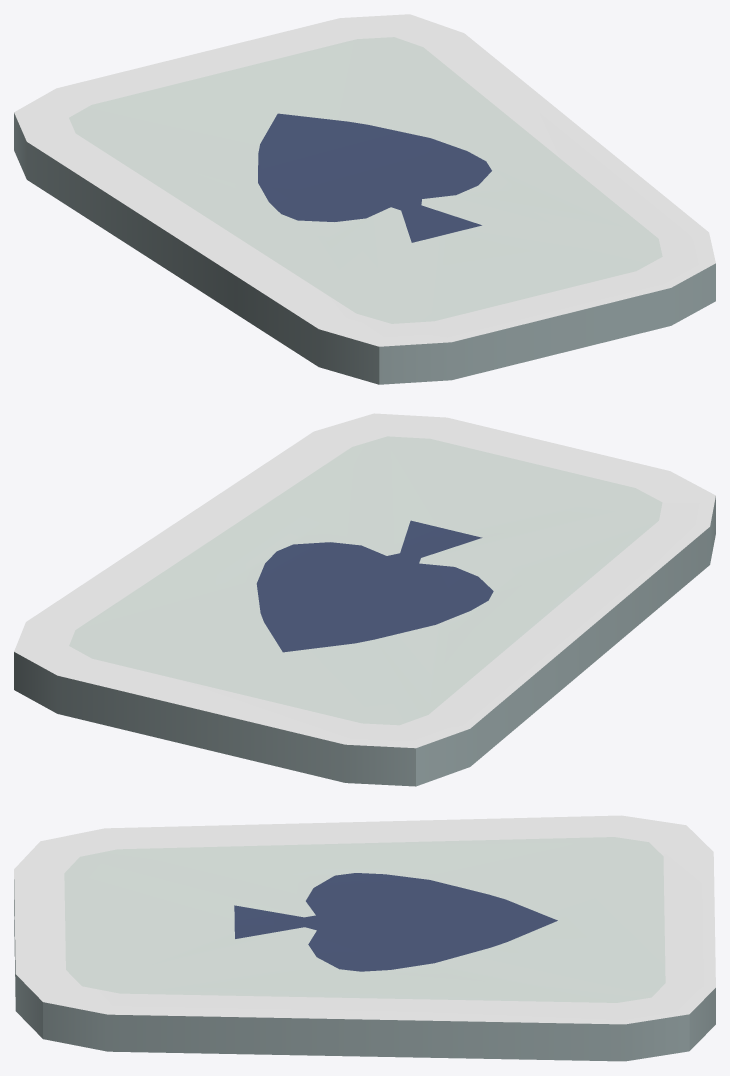
The model's file is Card_Spade.fbx.
3 renders of one model, top to bottom at view 1: azimuth 30°, elevation 25°; view 2: azimuth 150°, elevation 25°; view 3: azimuth 270°, elevation 25°, orthographic. The views are drawn at different scales.
Parts seen in each view (by area): view 1: Spade; view 2: Spade; view 3: Spade.
Boxes of the visible parts, x1,y1,x2,y2 form: Spade: (14,14,715,384); Spade: (14,413,715,786); Spade: (14,815,715,1061).
Size of the model in its own units: 0.3103 by 0.4406 by 0.0257.
